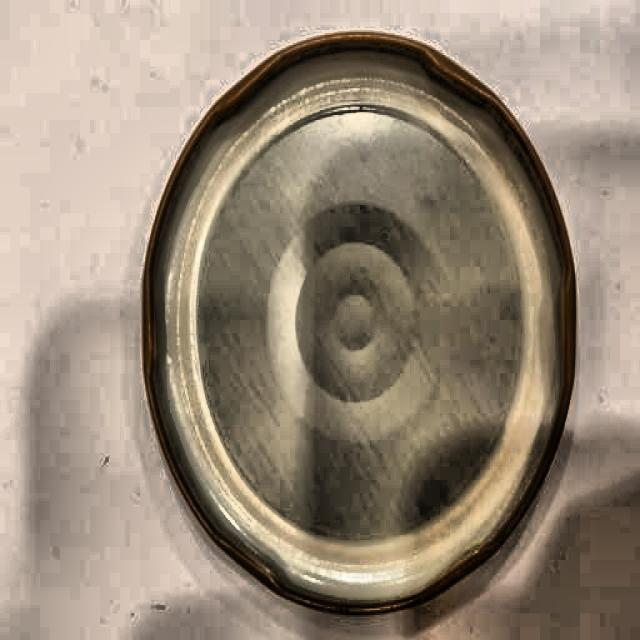metal: (142, 31, 586, 615)
